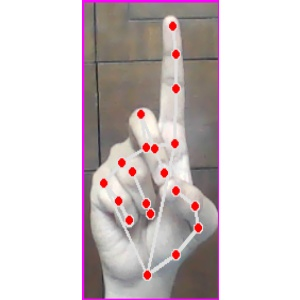D: (80, 2, 218, 300)
